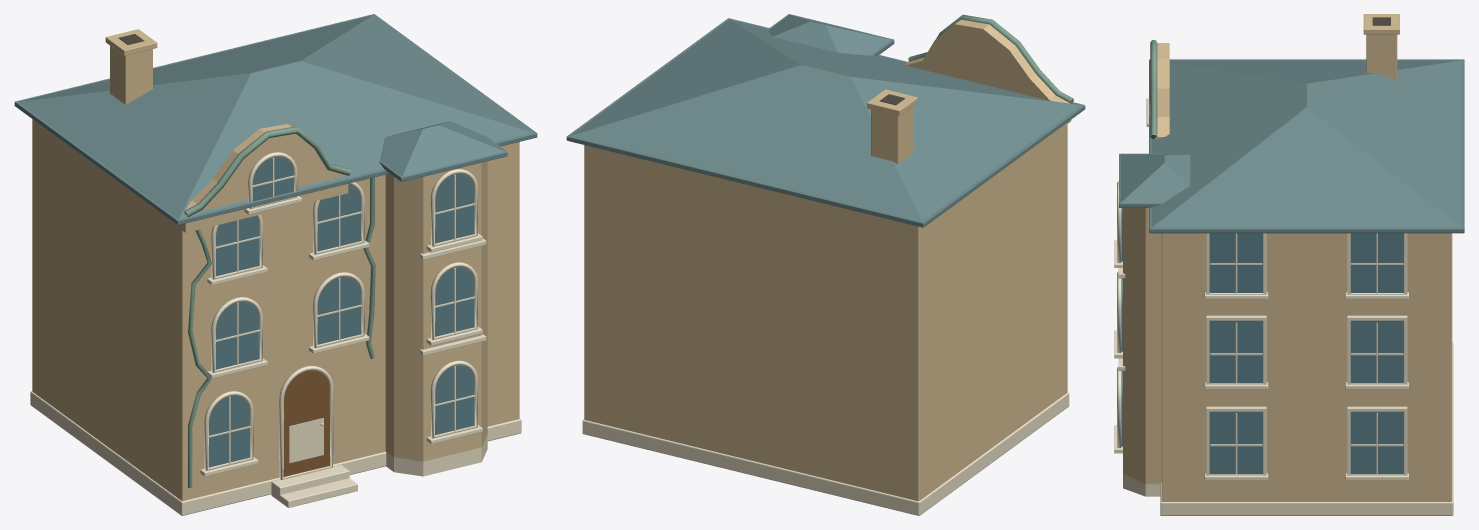
File: medium_art_nouveau.glb
The picture shows the model from 3 angles, left to right: view 1: azimuth 30°, elevation 25°; view 2: azimuth 150°, elevation 25°; view 3: azimuth 270°, elevation 25°; orthographic projection. The views are drawn at different scales.
Parts seen in each view (by area): view 1: Art Nouveau closed three-level house, Art Nouveau main slate solid hip roof, Art Nouveau tall faceted projecting bay, Art Nouveau sculpted curved front gable, Art Nouveau main foundation, Art Nouveau bay cap solid hip roof, Art Nouveau main slate closed eave fascia, Art Nouveau arched front entrance inset pane, Art Nouveau lower left sash inset pane, Art Nouveau upper facade sash inset pane.001, Art Nouveau upper facade sash inset pane, Art Nouveau bay sash inset pane.002 (+25 smaller); view 2: Art Nouveau closed three-level house, Art Nouveau main slate solid hip roof, Art Nouveau main foundation, Art Nouveau sculpted curved front gable, Art Nouveau main slate closed eave fascia, Art Nouveau bay cap solid hip roof, Art Nouveau rear chimney chimney shaft, Art Nouveau curved gable coping, Art Nouveau rear chimney chimney cap; view 3: Art Nouveau closed three-level house, Art Nouveau main slate solid hip roof, Art Nouveau tall faceted projecting bay, Art Nouveau main foundation, Art Nouveau main slate closed eave fascia, Art Nouveau right-side sash inset pane, Art Nouveau right-side sash inset pane.001, Art Nouveau right-side sash inset pane.003, Art Nouveau right-side sash inset pane.004, Art Nouveau bay cap solid hip roof, Art Nouveau right-side sash inset pane.002, Art Nouveau right-side sash inset pane.005 (+5 smaller).
Boxes of the visible parts, bbox=[...] form: Art Nouveau closed three-level house: bbox=[32, 119, 519, 501]; Art Nouveau main slate solid hip roof: bbox=[18, 15, 533, 219]; Art Nouveau tall faceted projecting bay: bbox=[385, 161, 487, 461]; Art Nouveau sculpted curved front gable: bbox=[178, 124, 348, 232]; Art Nouveau main foundation: bbox=[30, 391, 521, 515]; Art Nouveau bay cap solid hip roof: bbox=[380, 121, 504, 178]; Art Nouveau main slate closed eave fascia: bbox=[14, 14, 537, 225]; Art Nouveau arched front entrance inset pane: bbox=[283, 370, 330, 476]; Art Nouveau lower left sash inset pane: bbox=[208, 395, 250, 467]; Art Nouveau upper facade sash inset pane.001: bbox=[317, 277, 361, 344]; Art Nouveau upper facade sash inset pane: bbox=[215, 301, 259, 369]; Art Nouveau bay sash inset pane.002: bbox=[435, 173, 474, 243]; Art Nouveau closed three-level house: bbox=[584, 124, 1067, 501]; Art Nouveau main slate solid hip roof: bbox=[571, 19, 1081, 221]; Art Nouveau main foundation: bbox=[582, 392, 1069, 515]; Art Nouveau sculpted curved front gable: bbox=[905, 19, 1071, 126]; Art Nouveau main slate closed eave fascia: bbox=[566, 18, 1085, 227]; Art Nouveau bay cap solid hip roof: bbox=[768, 15, 891, 55]; Art Nouveau rear chimney chimney shaft: bbox=[871, 106, 913, 164]; Art Nouveau curved gable coping: bbox=[908, 14, 1073, 102]; Art Nouveau rear chimney chimney cap: bbox=[867, 89, 917, 115]; Art Nouveau closed three-level house: bbox=[1161, 233, 1452, 501]; Art Nouveau main slate solid hip roof: bbox=[1151, 60, 1461, 227]; Art Nouveau tall faceted projecting bay: bbox=[1123, 208, 1161, 484]; Art Nouveau main foundation: bbox=[1160, 342, 1453, 515]; Art Nouveau main slate closed eave fascia: bbox=[1149, 59, 1464, 233]; Art Nouveau right-side sash inset pane: bbox=[1209, 411, 1263, 474]; Art Nouveau right-side sash inset pane.001: bbox=[1209, 320, 1263, 383]; Art Nouveau right-side sash inset pane.003: bbox=[1350, 411, 1403, 474]; Art Nouveau right-side sash inset pane.004: bbox=[1350, 320, 1403, 383]; Art Nouveau bay cap solid hip roof: bbox=[1120, 154, 1190, 202]; Art Nouveau right-side sash inset pane.002: bbox=[1209, 233, 1263, 292]; Art Nouveau right-side sash inset pane.005: bbox=[1350, 233, 1403, 292].
Bounding box in the file's own units: 8.85 × 8.87 × 7.72.
